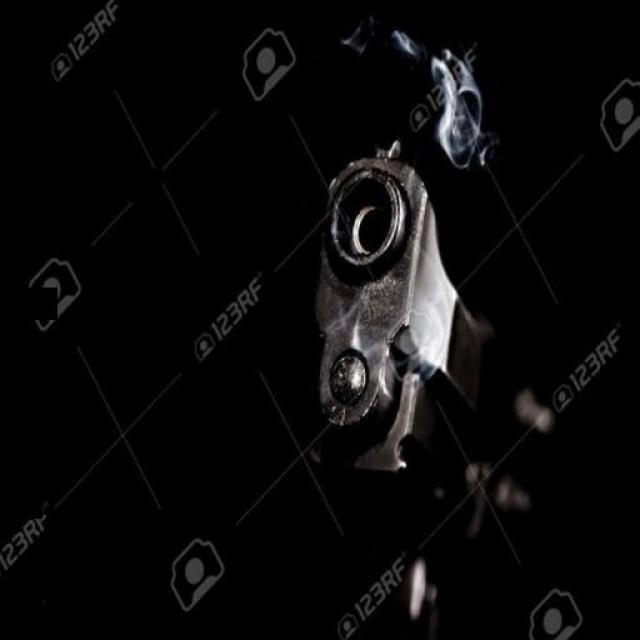gun: (266, 124, 609, 575)
